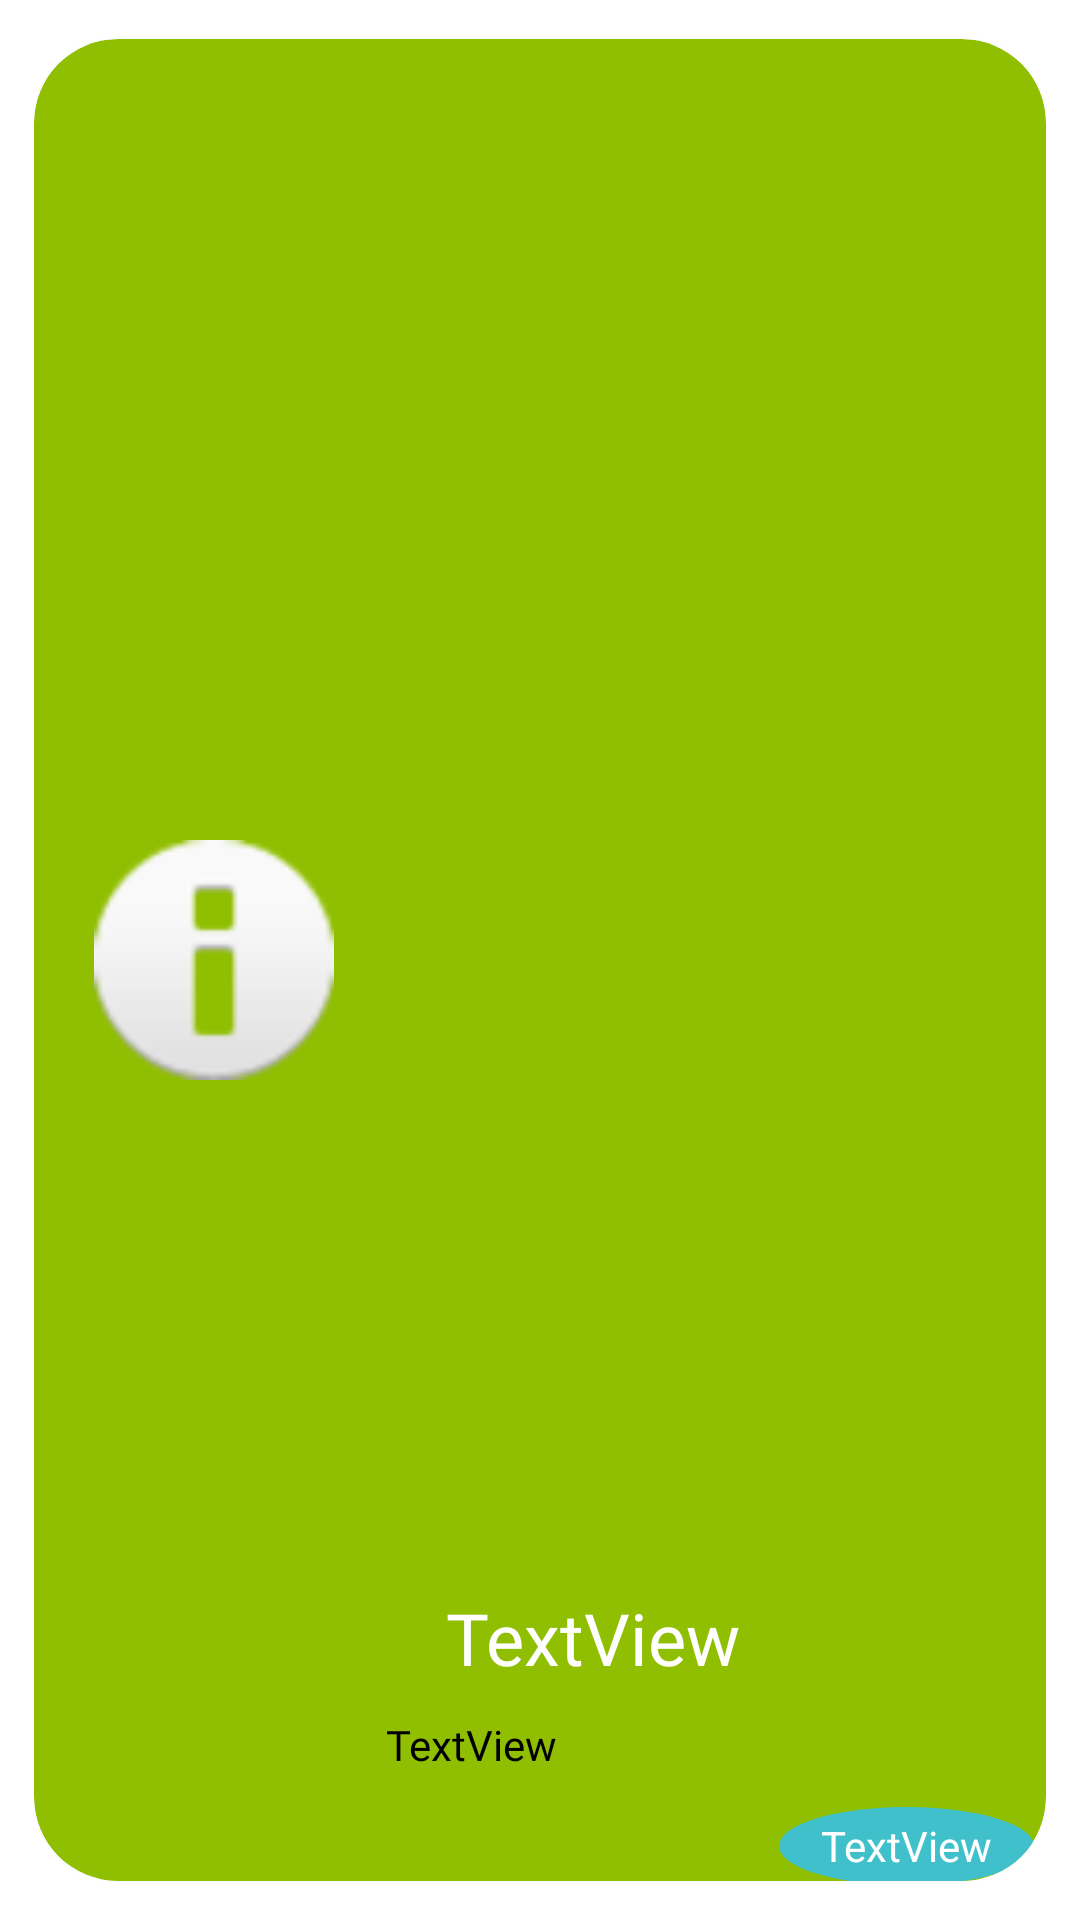

Named icons in this screenshot (1080w x 1920h) and their bounding boxes, (x1, y1, x2, y2):
info: (94, 840, 334, 1080)
